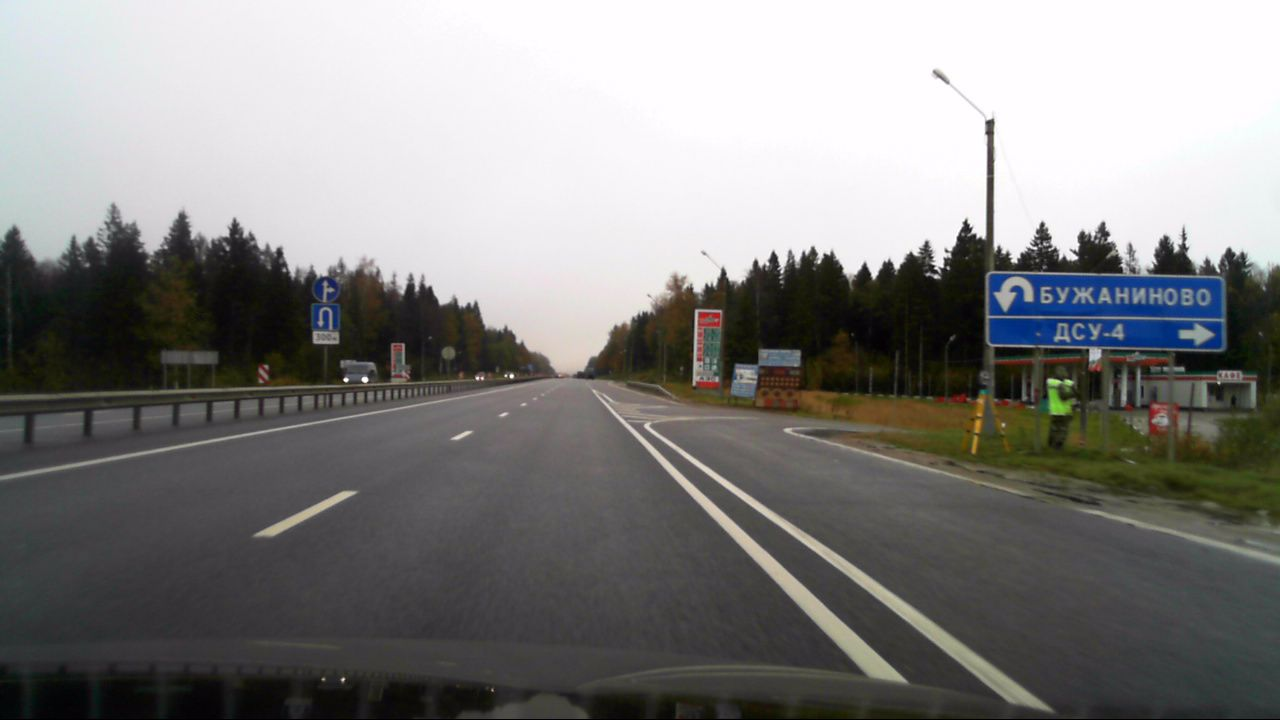U-turn: (312, 304, 339, 331)
